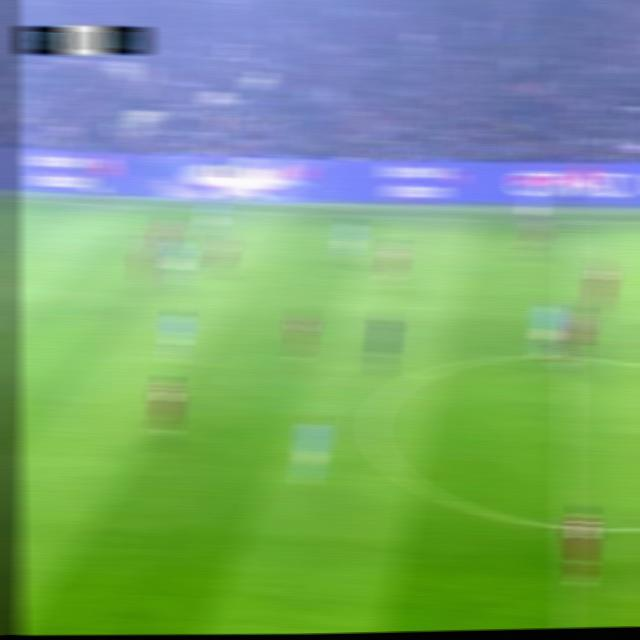halfcircle_bottom: (548, 506, 583, 543)
halfcircle_top: (551, 343, 584, 372)
midline_top_intersection: (555, 208, 583, 235)
